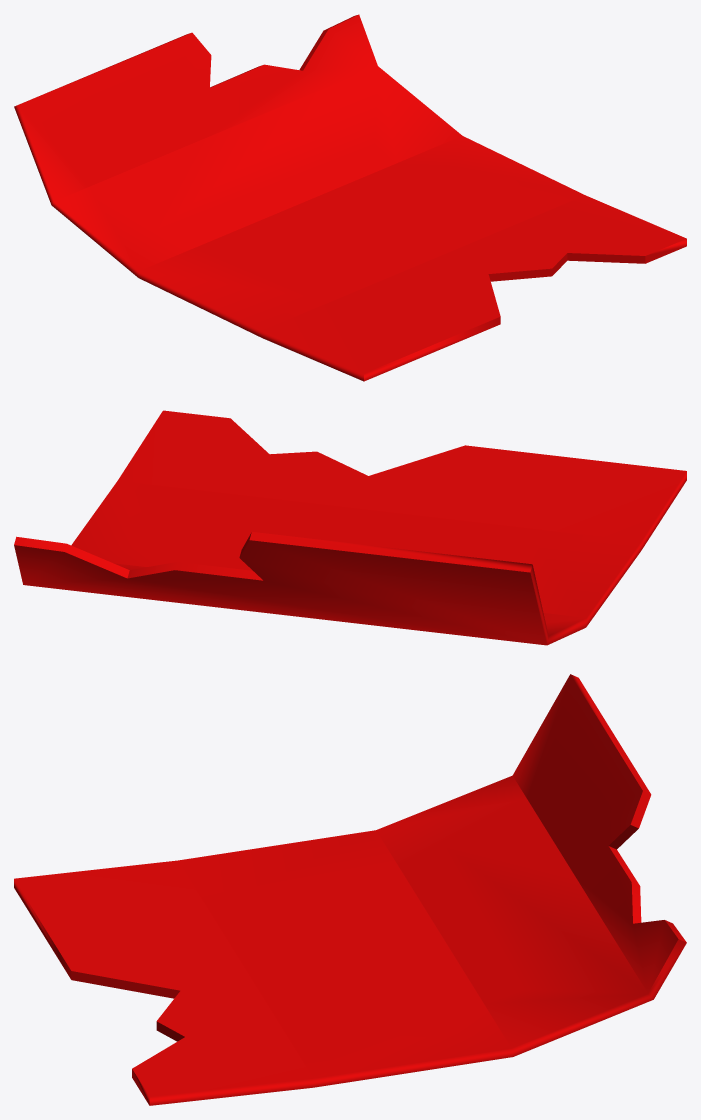
The model's file is Asset_EveNote.glb.
3 views of the same model, one above another, from view 1: azimuth 30°, elevation 25°; view 2: azimuth 150°, elevation 25°; view 3: azimuth 270°, elevation 25° (orthographic). The views are drawn at different scales.
Parts seen in each view (by area): view 1: Asset_EveNote; view 2: Asset_EveNote; view 3: Asset_EveNote.
Boxes of the visible parts, <box> form: Asset_EveNote: <box>14,14,686,381</box>; Asset_EveNote: <box>14,410,686,645</box>; Asset_EveNote: <box>14,674,686,1105</box>.
Size of the model in its own units: 0.3291 by 0.0831 by 0.3333.
